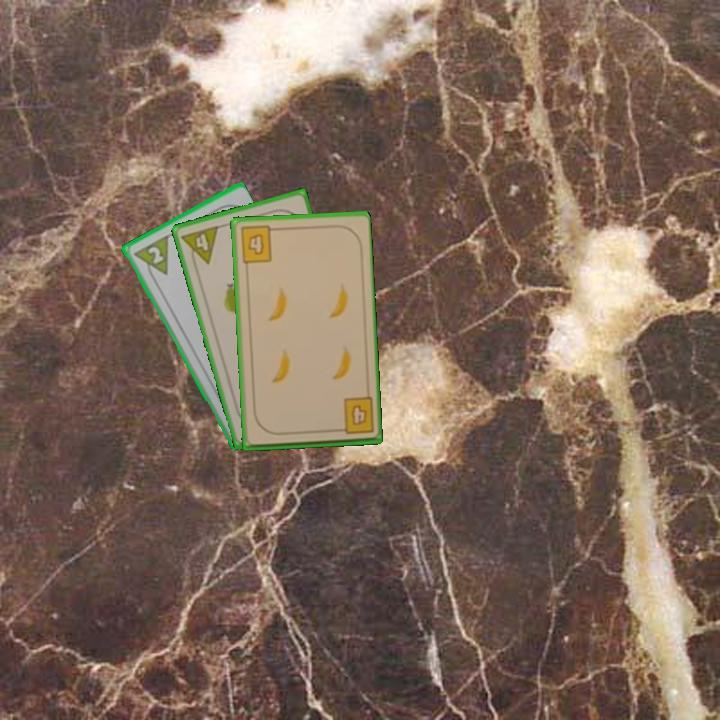2p: (129, 232, 171, 284)
4b: (332, 394, 376, 437), (237, 223, 280, 266)
4p: (178, 222, 221, 270)
